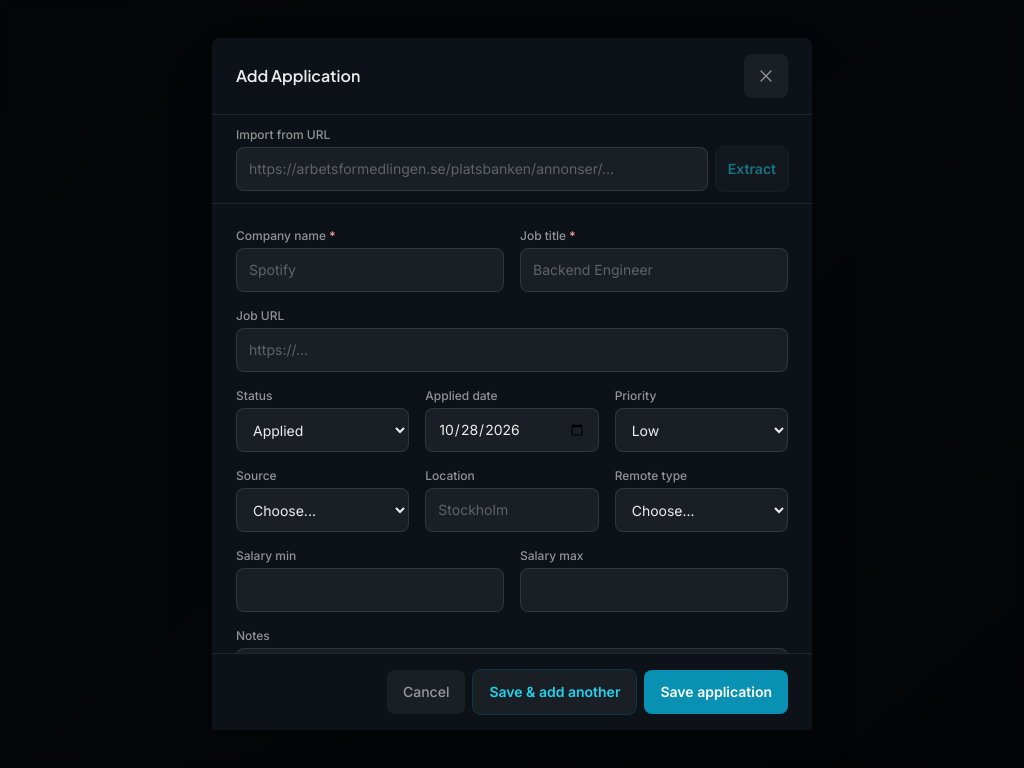
AddApplicationModal — import from URL › pre-fills the form from a scraped URL
Type "https://arbetsformedlingen.se/platsbanken/annonser/29403394" into the field labelled "Import from URL" at (472, 169), box [236,147,708,191]
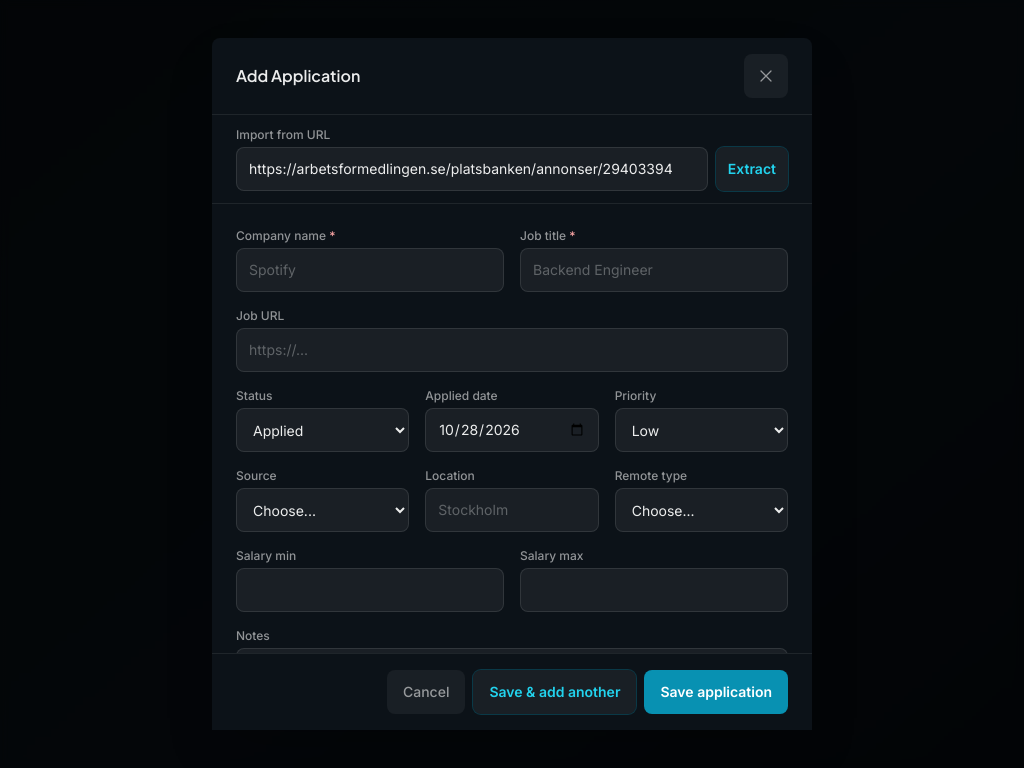
Click the button "Extract" at (752, 169), box [716,147,788,191]
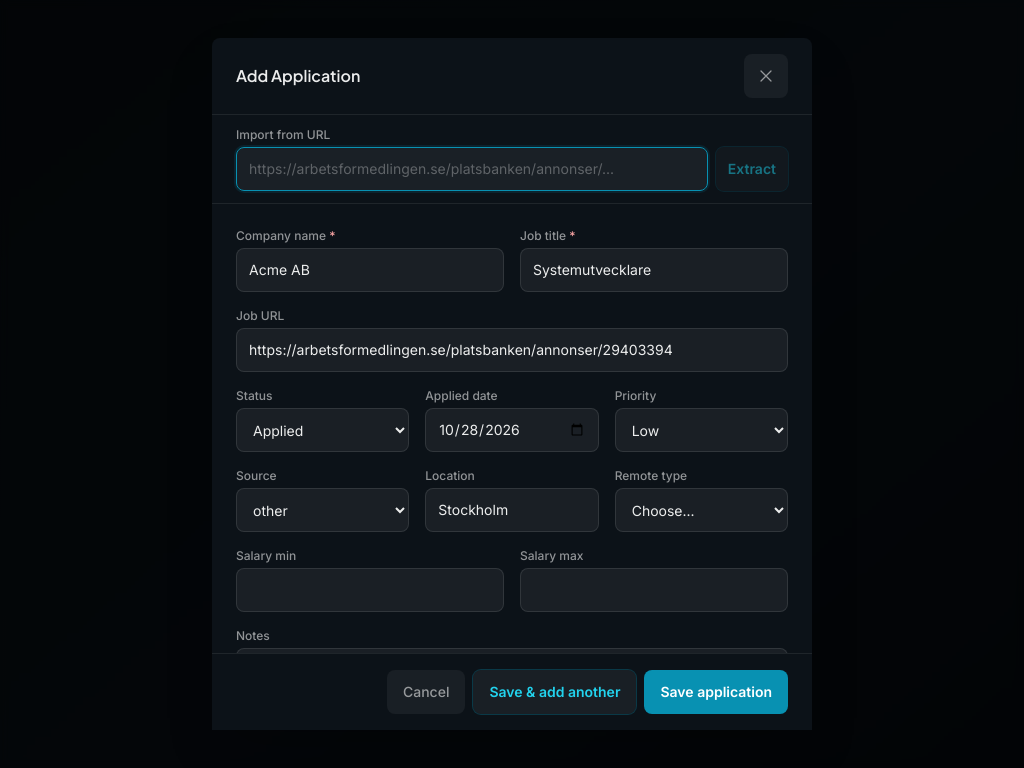
Now the field with placeholder "Spotify" holds "Acme AB", box [236,248,504,292]
Now the field with placeholder "Backend Engineer" holds "Systemutvecklare", box [520,248,788,292]
Now the field with placeholder "https://..." holds "https://arbetsformedlingen.se/platsbanken/annonser/29403394", box [236,328,788,372]
